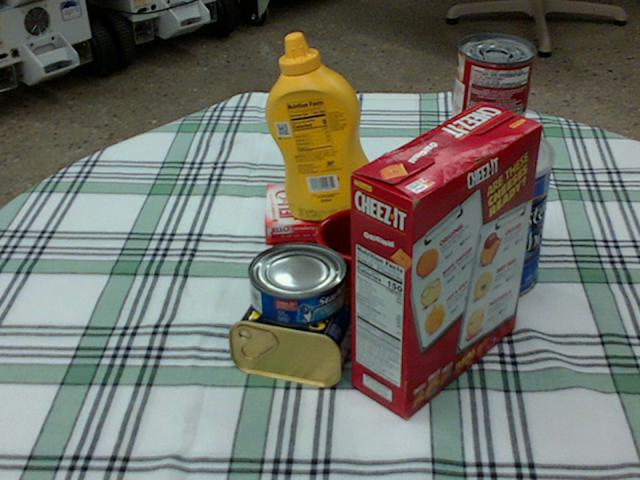cracker_box: (351, 103, 542, 418)
gelatin_box: (264, 184, 331, 246)
master_chef_can: (435, 125, 554, 300)
mug: (315, 209, 435, 326)
mustard_bottle: (264, 33, 377, 220)
potted_meat_can: (231, 274, 366, 385)
sugar_box: (345, 153, 460, 270)
tomato_soup_can: (448, 34, 533, 167)
tuna_fish_can: (248, 242, 346, 326)
